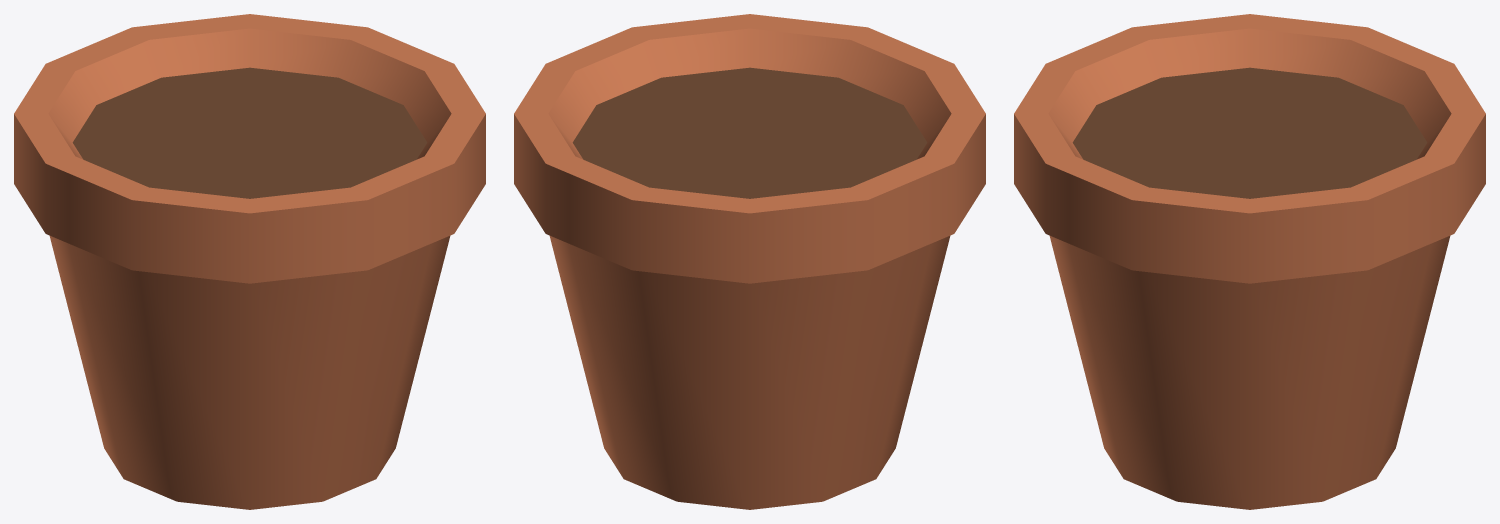
File: FlowerPot.fbx
The picture shows the model from 3 angles, left to right: view 1: azimuth 30°, elevation 25°; view 2: azimuth 150°, elevation 25°; view 3: azimuth 270°, elevation 25°; orthographic projection.
Visible parts, largest first — view 1: FlowerPot; view 2: FlowerPot; view 3: FlowerPot.
Boxes of the visible parts, bbox=[...] form: FlowerPot: bbox=[14, 14, 485, 509]; FlowerPot: bbox=[514, 14, 985, 509]; FlowerPot: bbox=[1014, 14, 1485, 509].
Bounding box in the file's own units: 37.98 × 29.71 × 37.98.
